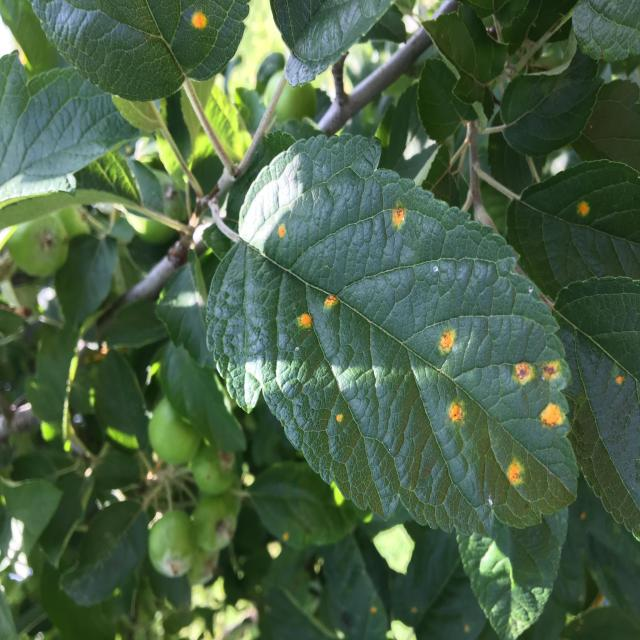Rust: (537, 386, 569, 441), (514, 336, 537, 408), (434, 393, 472, 435), (427, 323, 459, 368), (539, 345, 568, 394), (503, 452, 532, 501), (380, 200, 416, 239), (286, 300, 318, 336), (610, 356, 628, 408), (190, 0, 208, 47), (571, 197, 600, 225), (267, 213, 290, 245), (319, 286, 344, 314), (332, 400, 348, 429)
